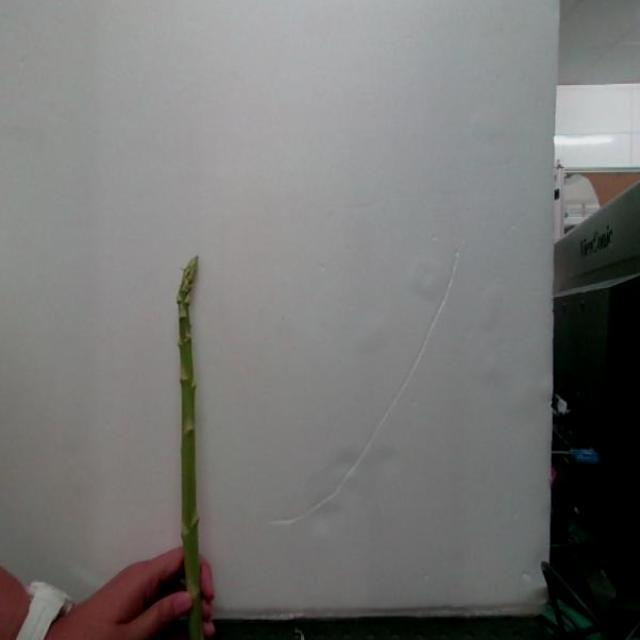aspargus: (178, 258, 215, 640)
